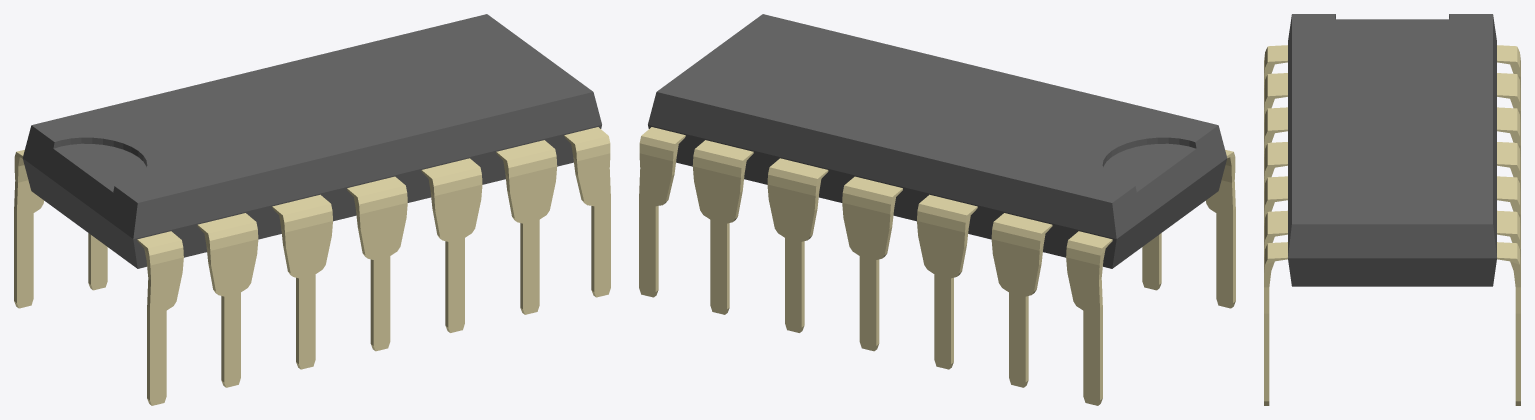
The picture shows the model from 3 angles, left to right: view 1: azimuth 30°, elevation 25°; view 2: azimuth 150°, elevation 25°; view 3: azimuth 270°, elevation 25°; orthographic projection. The views are drawn at different scales.
Visible parts, largest first — view 1: Cube.002; view 2: Cube.002; view 3: Cube.002.
Part boxes in pixels (box(x1,y1,x2,y2)): Cube.002: box(14, 14, 610, 405); Cube.002: box(639, 14, 1235, 405); Cube.002: box(1264, 14, 1520, 405).
Size of the model in its own units: 633 by 248 by 318.
